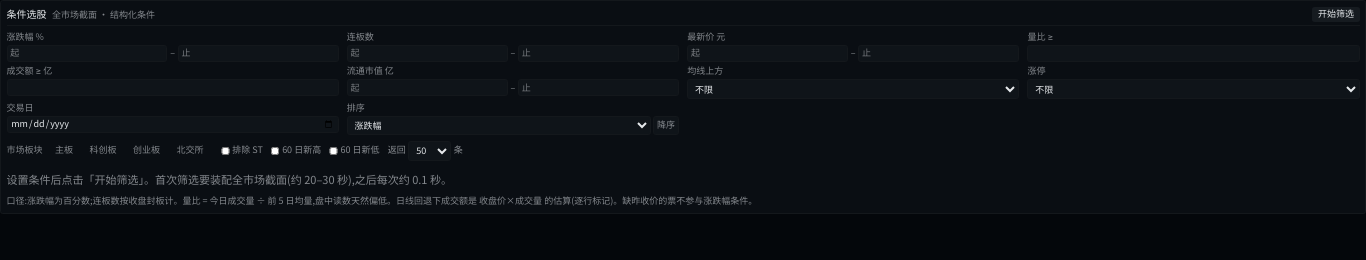
Test: AshareScreenPanel › distinguishes ok+0 from an empty cross-section
Click the button with test id "screen-run".
click(1336, 14)  # box [1312,6,1360,22]
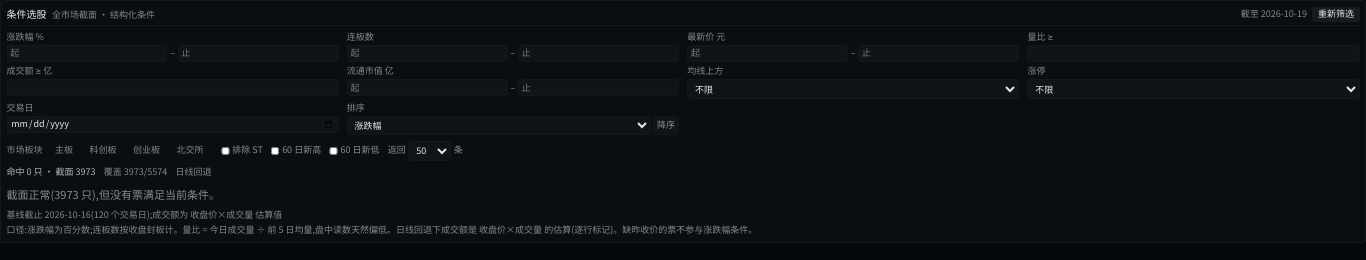
expect the button with test id "screen-run" reads "重新筛选": met, box [1312,6,1360,22]
expect the text "截面正常(3973 只),但没有票满足当前条件。" is shown: met, box [6,186,220,202]
